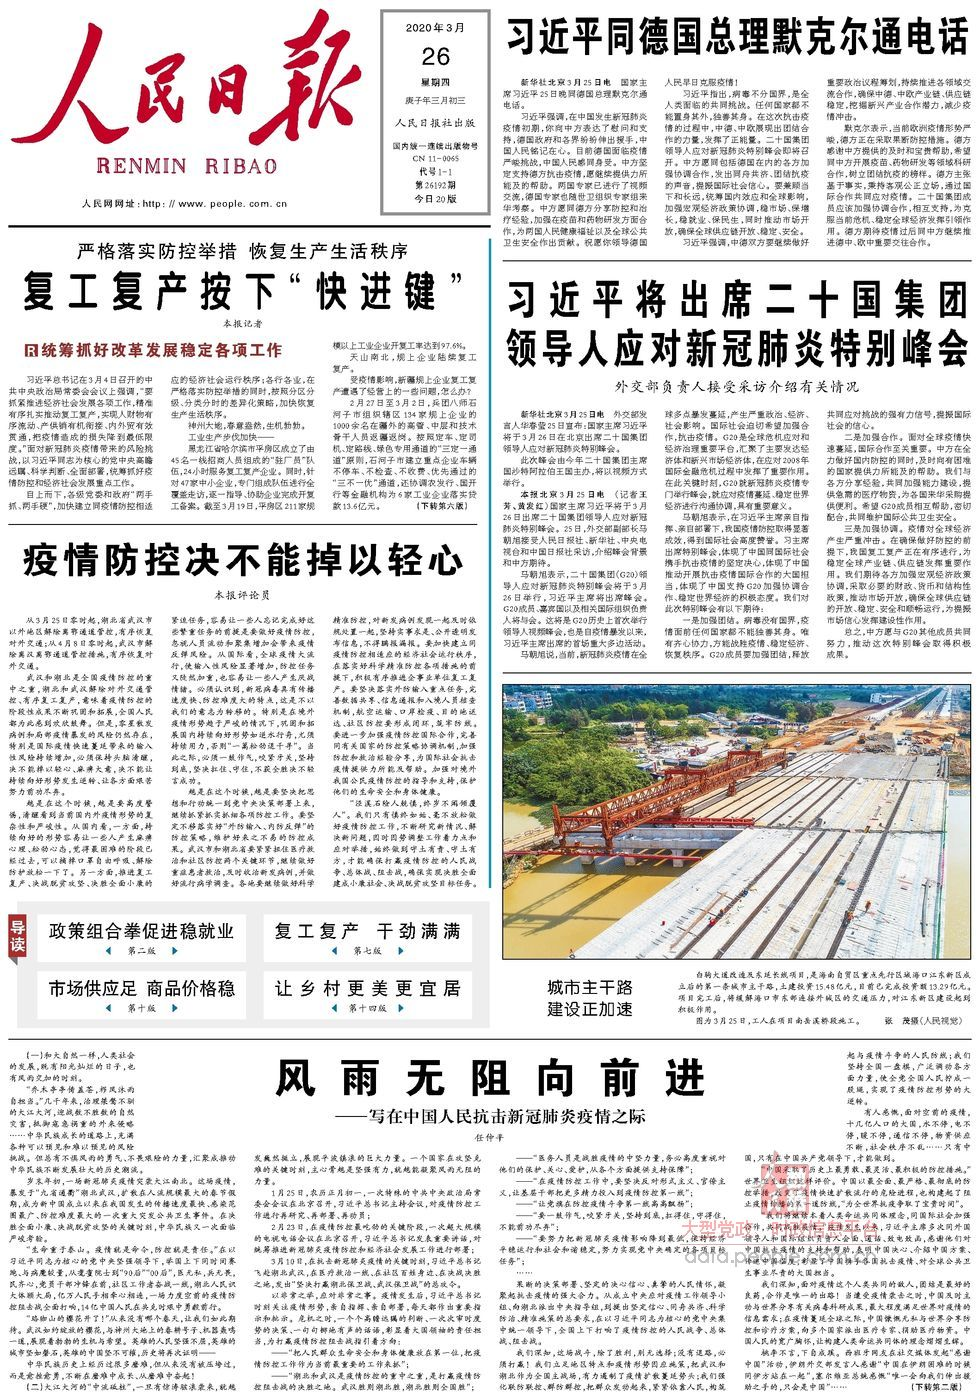pic: (497, 678, 977, 964)
